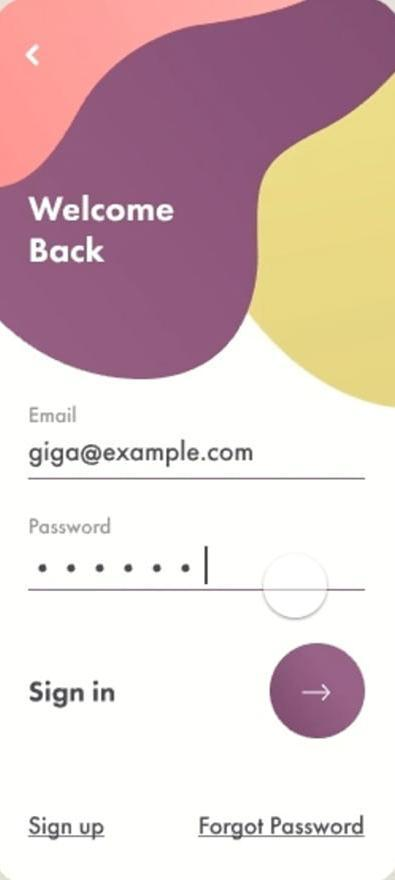icon: (295, 677, 341, 711), (20, 40, 50, 74)
label: (24, 192, 179, 264), (195, 811, 366, 840), (27, 679, 118, 709), (25, 817, 110, 842), (24, 516, 116, 537), (29, 404, 80, 426)
